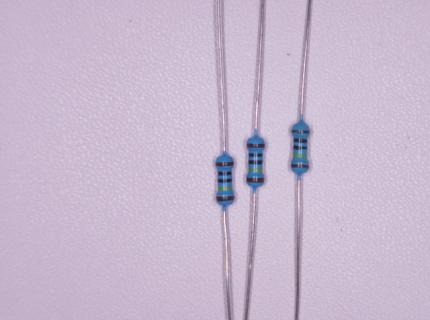Black band: (293, 145, 308, 151), (248, 160, 263, 165), (218, 171, 232, 176), (294, 138, 307, 143), (248, 153, 263, 157), (218, 179, 232, 183)
Brown band: (216, 196, 235, 202), (247, 177, 265, 183), (291, 164, 309, 169), (216, 162, 234, 167), (292, 129, 310, 134), (247, 144, 265, 147)
Yellow band: (218, 186, 232, 192), (293, 153, 307, 158), (249, 168, 263, 172)
